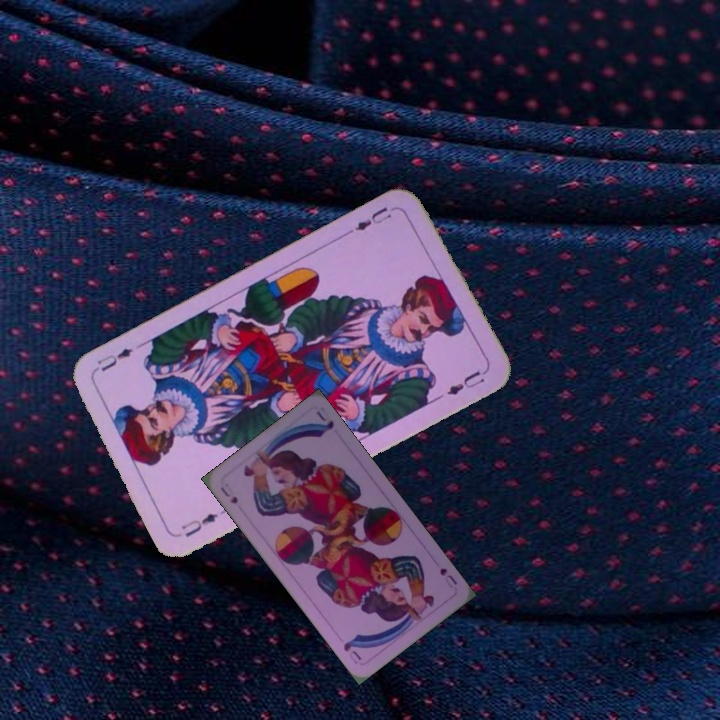EU: (344, 202, 399, 237), (177, 509, 221, 540)
SU: (435, 564, 460, 591), (216, 483, 241, 507)
